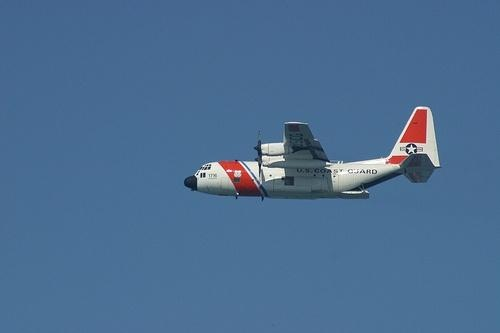aeroplane: (178, 102, 447, 205)
